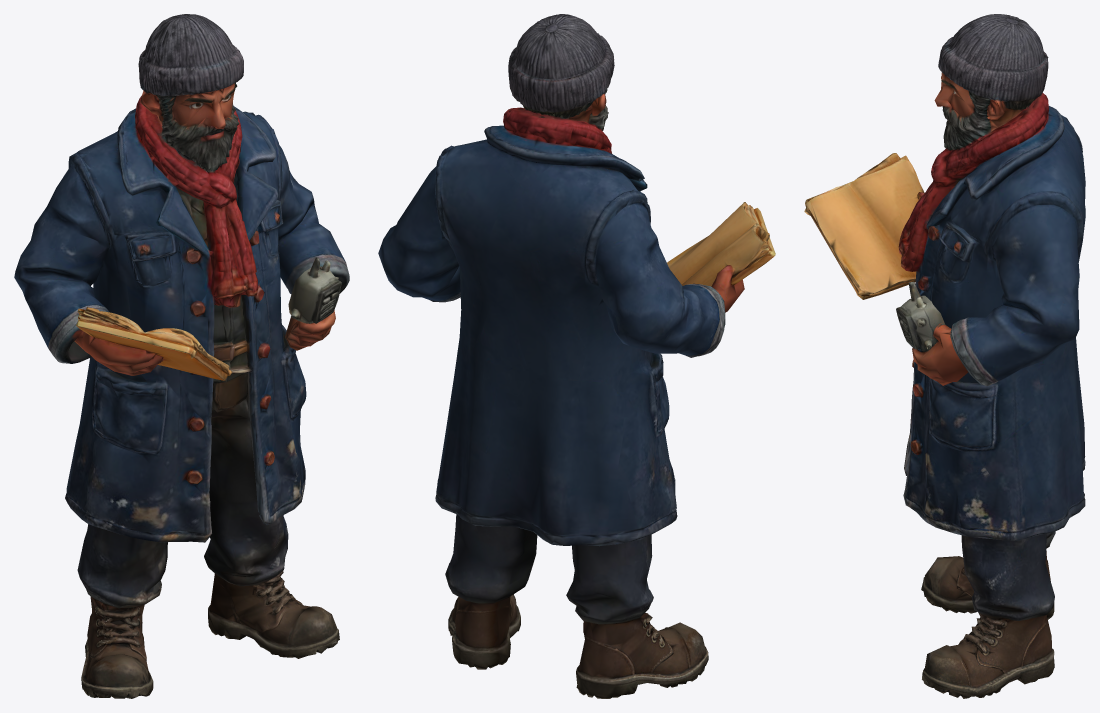
Rendered from canal-keeper.glb.
3 renders of one model, left to right at view 1: azimuth 30°, elevation 25°; view 2: azimuth 150°, elevation 25°; view 3: azimuth 270°, elevation 25°, orthographic. The views are drawn at different scales.
Visible parts, largest first — view 1: SM_canal_keeper; view 2: SM_canal_keeper; view 3: SM_canal_keeper.
Part boxes in pixels (x1,y1,x2,y2): SM_canal_keeper: (14,14,349,698); SM_canal_keeper: (378,14,775,698); SM_canal_keeper: (804,14,1085,698).
Size of the model in its own units: 0.8818 by 1.72 by 0.6999.
1 material, 1 textured.
